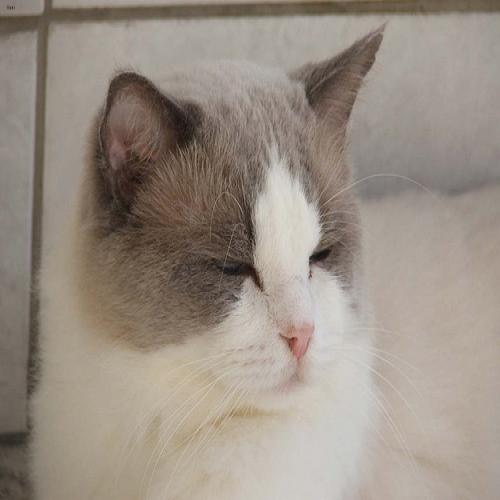ragdoll: (84, 7, 411, 424)
